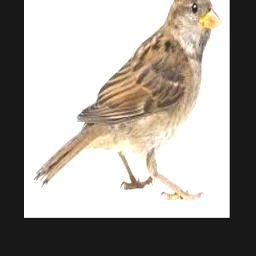Sparrow: (33, 0, 221, 200)
